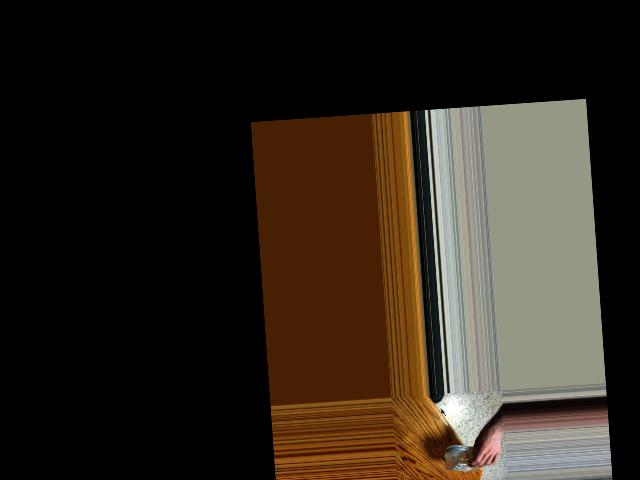cheese: (449, 438, 492, 475)
